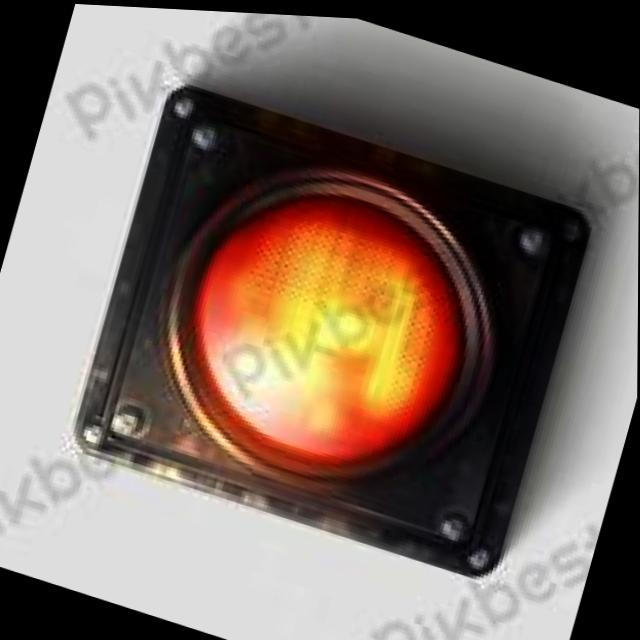red_light: (118, 116, 552, 541)
